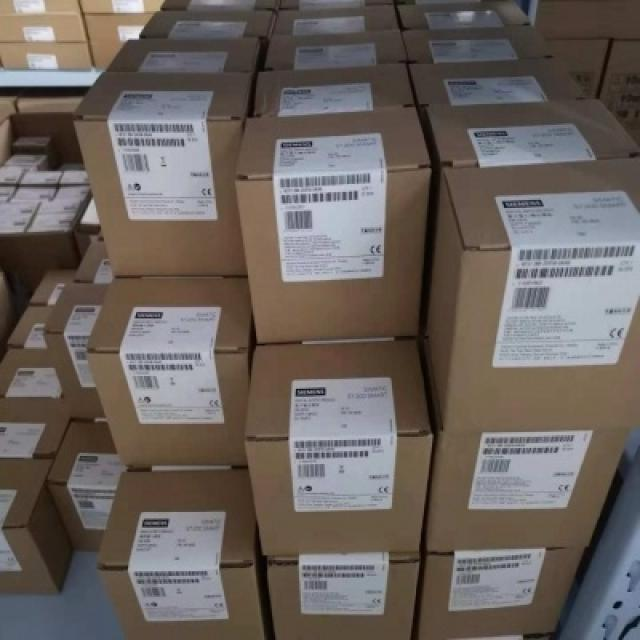box: (426, 157, 640, 430), (235, 107, 432, 344), (424, 339, 630, 554), (243, 339, 434, 557), (74, 70, 254, 277), (86, 277, 254, 467), (96, 466, 267, 640), (418, 549, 586, 640), (427, 99, 640, 168), (267, 552, 421, 640), (410, 58, 589, 130), (0, 458, 72, 595), (48, 421, 123, 552), (254, 61, 416, 117), (43, 283, 107, 422), (403, 26, 557, 64), (266, 30, 406, 69), (106, 37, 261, 72), (141, 10, 277, 43), (528, 0, 640, 40), (27, 213, 82, 294), (0, 397, 70, 458), (274, 6, 400, 37), (398, 0, 531, 29), (546, 38, 610, 98), (85, 14, 152, 70), (600, 40, 640, 131), (0, 347, 64, 398), (0, 14, 90, 43), (0, 43, 93, 70), (6, 306, 51, 349), (29, 267, 75, 304), (75, 240, 114, 283), (10, 134, 61, 166), (162, 0, 280, 11), (19, 96, 83, 115), (80, 0, 163, 14), (280, 0, 395, 10), (5, 154, 51, 170), (18, 171, 64, 187), (54, 184, 91, 203), (10, 186, 58, 200), (0, 98, 21, 126), (58, 170, 90, 187), (0, 166, 26, 186), (0, 202, 40, 214), (0, 187, 18, 200)
